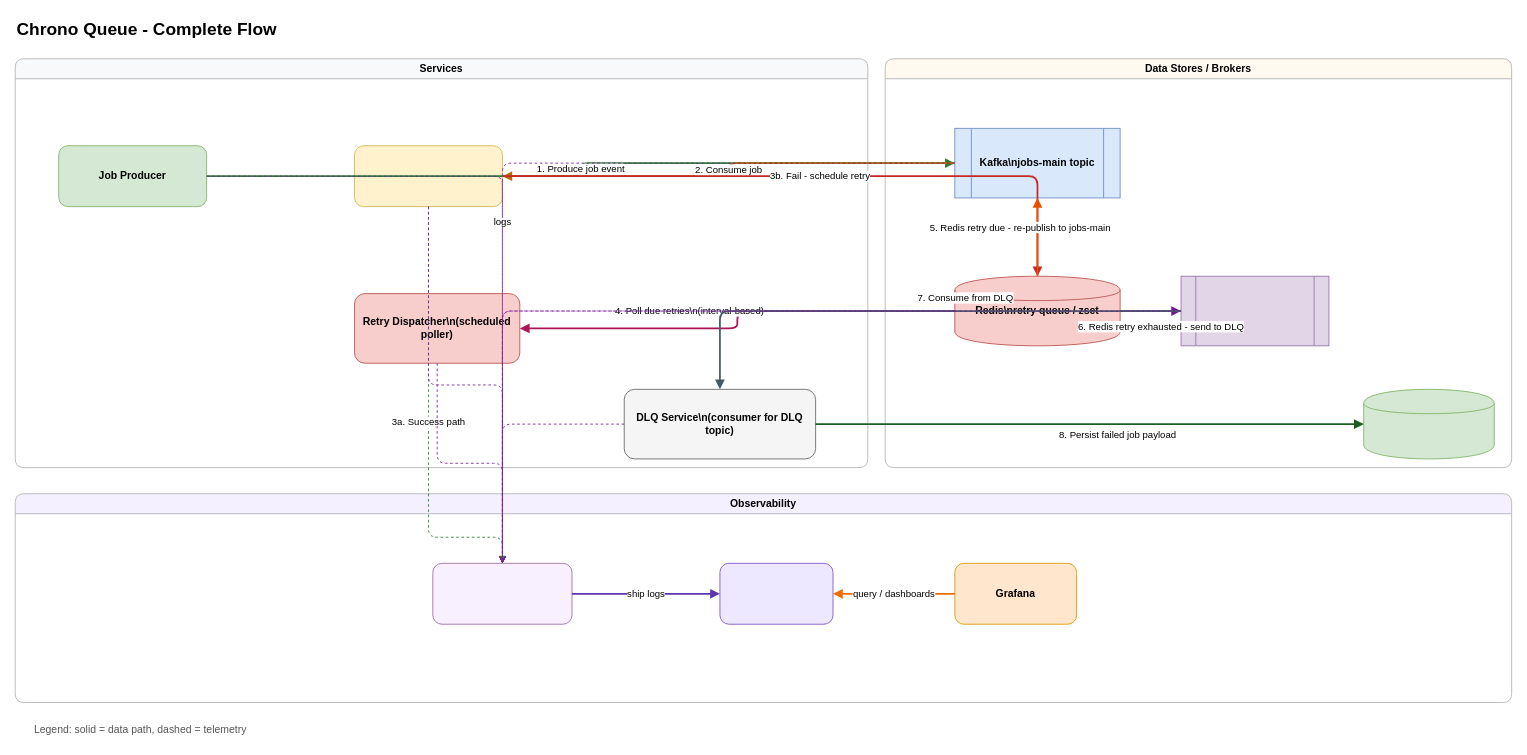
The diagram is 1527 pixels wide and 755 high, and some of its shapes have lost their labels. The box of each missing label's shape, as (x1, y1, x2, y2) in pixels:
Job Consumer: (354, 145, 502, 207)
Kafka\nDLQ topic: (1180, 275, 1329, 346)
Loki: (719, 562, 833, 624)
MongoDB\nfailed jobs archive: (1363, 388, 1494, 459)
Promtail: (432, 562, 572, 624)
